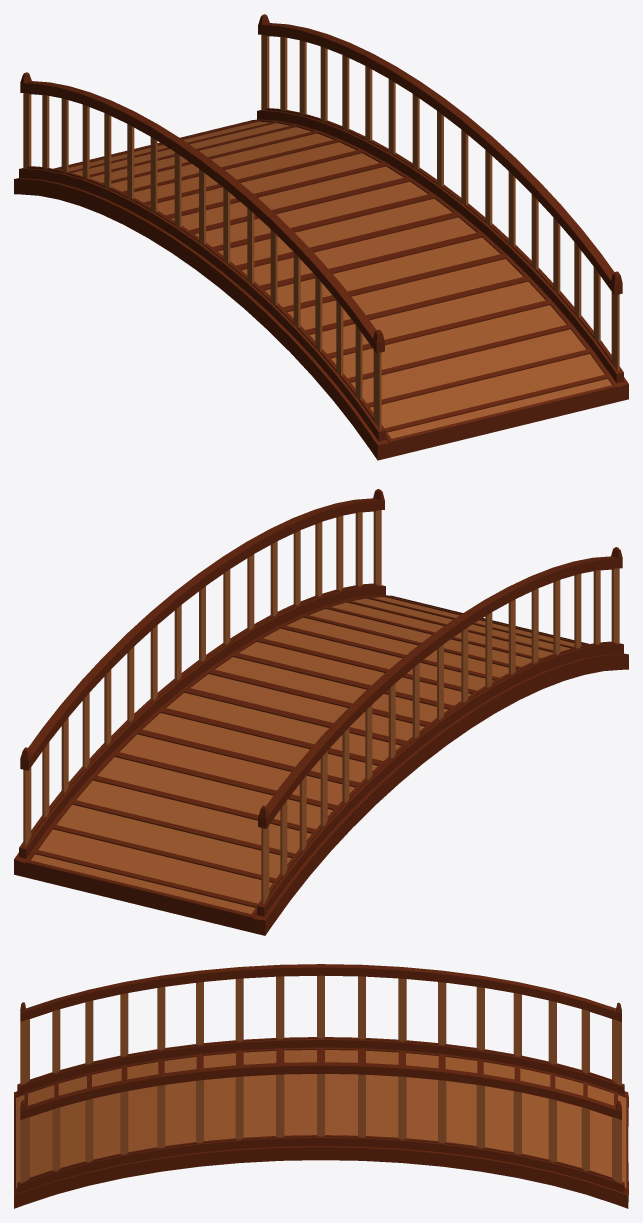
Rendered from most.fbx.
3 views of the same model, one above another, from view 1: azimuth 30°, elevation 25°; view 2: azimuth 150°, elevation 25°; view 3: azimuth 270°, elevation 25° (orthographic). The views are drawn at different scales.
Visible parts, largest first — view 1: Cube.005; view 2: Cube.005; view 3: Cube.005.
Boxes of the visible parts, bbox=[...] form: Cube.005: bbox=[14, 14, 628, 460]; Cube.005: bbox=[14, 489, 628, 935]; Cube.005: bbox=[14, 964, 628, 1208].
Bounding box in the file's own units: 827 × 530 × 2075.
